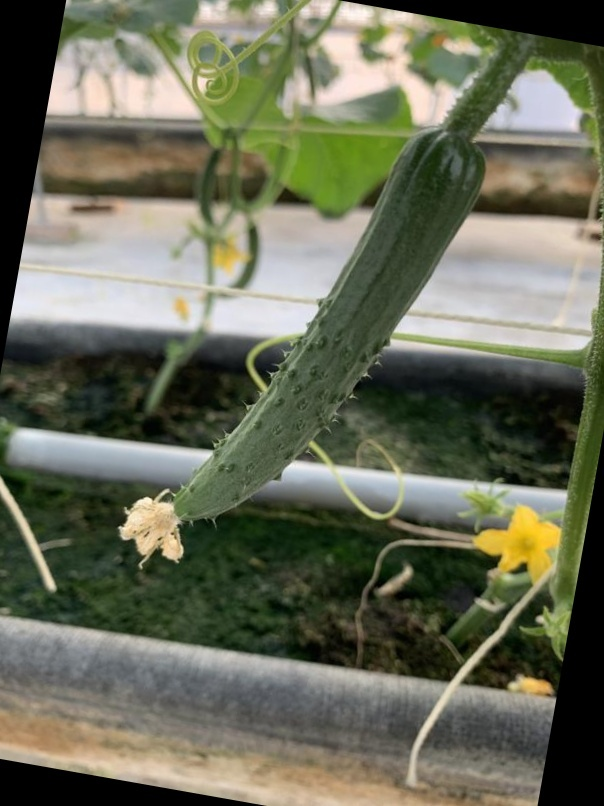growth: (168, 114, 502, 580)
